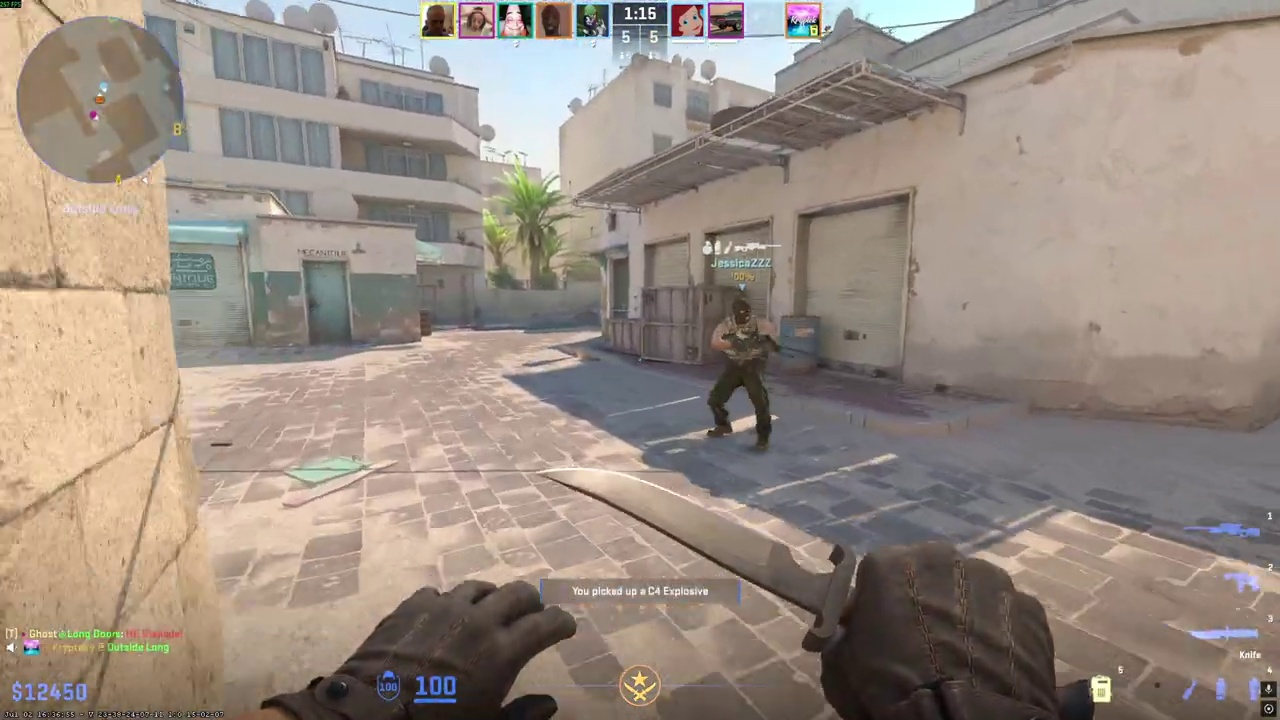Terrorist: (706, 299, 777, 453)
